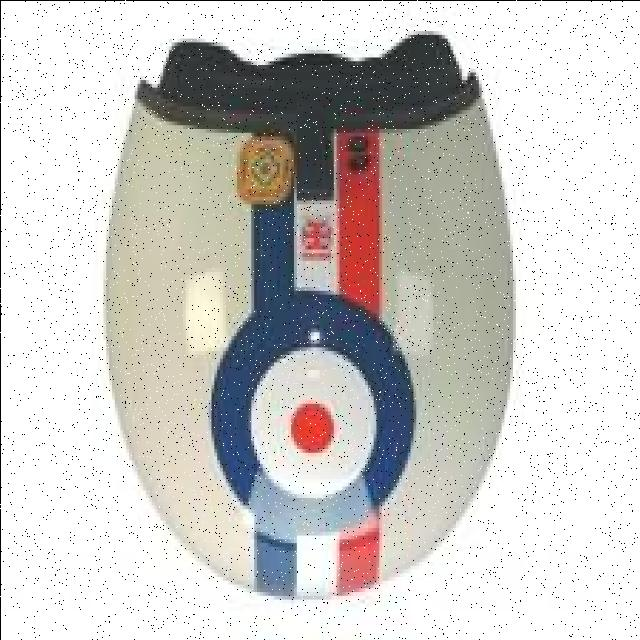Helmet: (97, 30, 515, 602)
